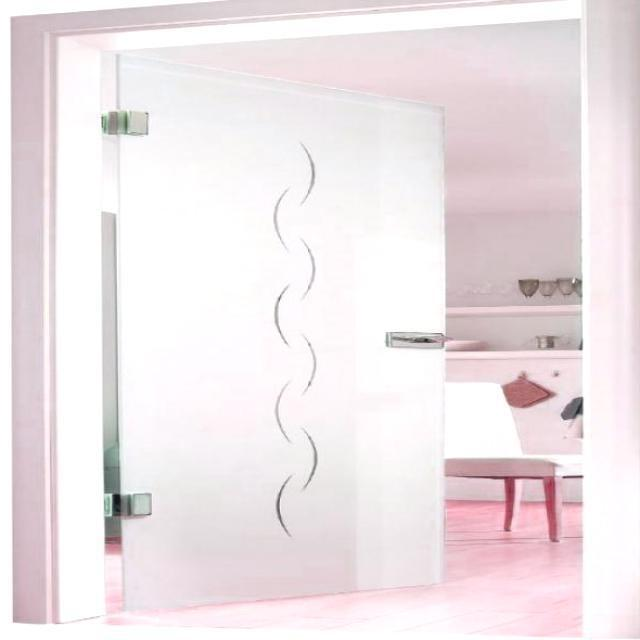door: (109, 51, 447, 611)
